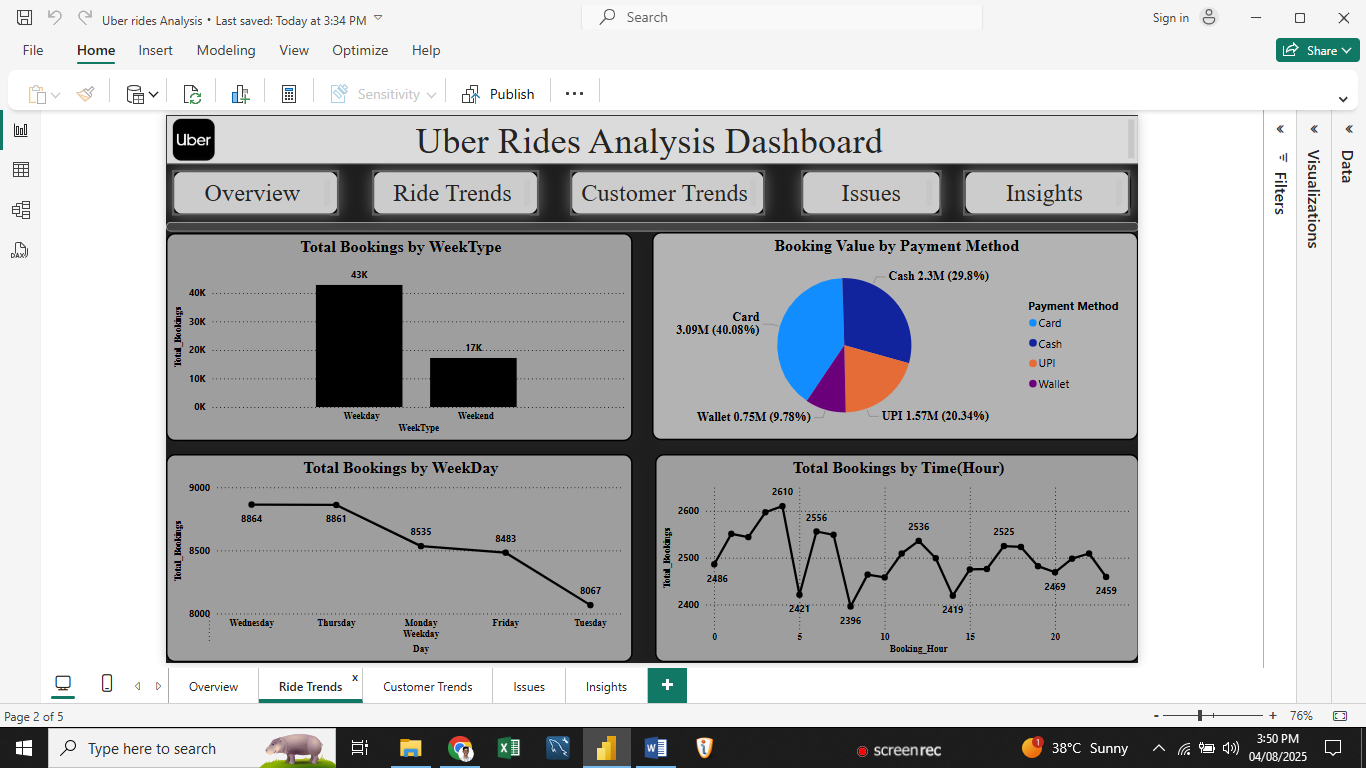

What the dashboard file says about the page in this screenshot:
{"tool":"powerbi","page":{"name":" Ride Trends","canvas":[1280,720],"ordinal":1},"visuals":[{"type":"textbox","box":[0,0,1280,65.2],"z":0},{"type":"image","box":[0,0,73.9,65.2],"z":1000},{"type":"textbox","box":[7.8,72,219.8,60.3],"z":2000},{"type":"textbox","box":[270.4,72,219.8,60.3],"z":3000},{"type":"textbox","box":[532,72,257,60],"z":4000},{"type":"textbox","box":[836,72,185,60],"z":5000},{"type":"textbox","box":[1049.5,72,219.8,60.3],"z":6000},{"type":"actionButton","box":[270.4,72,219.8,60.3],"z":7000},{"type":"actionButton","box":[1049,72,220,60],"z":8000},{"type":"actionButton","box":[7.8,72,219.8,60.3],"z":9000},{"type":"shape","box":[0,141,1280,12.6],"z":10000},{"type":"columnChart","title":"Total Bookings by WeekType","fields":{"Category":["Uber_Pune_Booking_Data.WeekType"],"Y":["Uber_Pune_Booking_Data.Total_Bookings"]},"box":[0,155,614,274],"z":11000},{"type":"lineChart","title":"Total Bookings by WeekDay","fields":{"Category":["Uber_Pune_Booking_Data.WeekType","Uber_Pune_Booking_Data.Day"],"Y":["Uber_Pune_Booking_Data.Total_Bookings"]},"box":[0,446,614,274],"z":12000},{"type":"lineChart","title":"Total Bookings by Time(Hour)","fields":{"Y":["Uber_Pune_Booking_Data.Total_Bookings"],"Category":["Uber_Pune_Booking_Data.Booking_Hour"]},"box":[643,446,637,274],"z":13000},{"type":"pieChart","title":"Booking Value by Payment Method","fields":{"Y":["Sum(Uber_Pune_Booking_Data.Booking Value)"],"Category":["Uber_Pune_Booking_Data.Payment Method"]},"box":[640,154,640,274],"z":14000},{"type":"actionButton","box":[836,72,185,60],"z":15000},{"type":"actionButton","box":[532,72,257,60],"z":16000}]}

Visuals, with their boxes on the page's 1280x720 design canvas (x1, y1, x2, y2). These are canvas units, not pixel positions in the 1366x768 screenshot, which may show the page scaled, cropped or inside an application window:
textbox: 0,0,1280,65
image: 0,0,74,65
textbox: 8,72,228,132
textbox: 270,72,490,132
textbox: 532,72,789,132
textbox: 836,72,1021,132
textbox: 1050,72,1269,132
actionButton: 270,72,490,132
actionButton: 1049,72,1269,132
actionButton: 8,72,228,132
shape: 0,141,1280,154
"Total Bookings by WeekType" columnChart: 0,155,614,429
"Total Bookings by WeekDay" lineChart: 0,446,614,720
"Total Bookings by Time(Hour)" lineChart: 643,446,1280,720
"Booking Value by Payment Method" pieChart: 640,154,1280,428
actionButton: 836,72,1021,132
actionButton: 532,72,789,132
